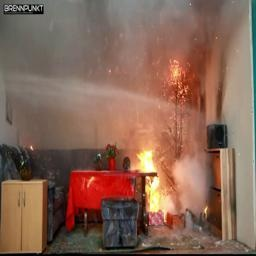fire: (134, 148, 163, 205)
smoke: (160, 118, 211, 206)
